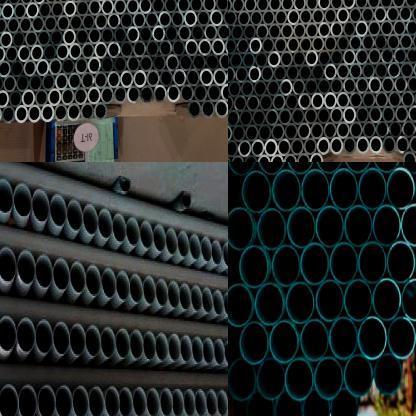pipe: (240, 320, 270, 364), (284, 358, 314, 402), (314, 356, 343, 401), (254, 283, 284, 326), (286, 206, 316, 249), (344, 354, 373, 398), (269, 320, 298, 364), (358, 316, 387, 360), (372, 278, 401, 322), (272, 168, 301, 212), (388, 315, 416, 360), (238, 246, 268, 288), (329, 317, 358, 360), (286, 281, 315, 324), (300, 318, 328, 362), (344, 204, 372, 248), (329, 242, 358, 284), (257, 208, 286, 250), (315, 206, 344, 248), (242, 171, 271, 213), (374, 353, 402, 396), (373, 204, 401, 247), (387, 167, 415, 210), (228, 358, 256, 401), (256, 358, 284, 401), (316, 280, 344, 322), (344, 279, 372, 321), (272, 244, 300, 286), (300, 242, 328, 284), (359, 242, 387, 284), (386, 241, 414, 283), (301, 168, 329, 210), (358, 168, 386, 210), (330, 168, 358, 210), (228, 206, 253, 250), (228, 284, 253, 327), (330, 388, 358, 416), (303, 389, 331, 416), (247, 390, 274, 416), (275, 391, 302, 416), (52, 320, 70, 356), (35, 318, 53, 354), (13, 183, 32, 217), (401, 278, 416, 321), (401, 203, 416, 246), (0, 383, 19, 416), (18, 318, 36, 352), (0, 315, 17, 351), (18, 250, 36, 284), (0, 247, 17, 282), (32, 189, 50, 222), (19, 384, 37, 416), (52, 258, 70, 290), (50, 194, 68, 226), (36, 255, 53, 288), (38, 384, 55, 416), (56, 384, 73, 416), (70, 323, 86, 356), (70, 262, 86, 294), (67, 199, 83, 231), (82, 204, 98, 235), (72, 386, 88, 416), (86, 264, 101, 296), (101, 327, 116, 358), (98, 208, 113, 239), (0, 178, 13, 213), (89, 386, 104, 416), (105, 386, 120, 416), (101, 268, 116, 298), (86, 324, 100, 356), (113, 212, 127, 244), (116, 327, 130, 358), (133, 386, 147, 416), (130, 330, 144, 360), (126, 216, 140, 246), (119, 387, 133, 416), (228, 162, 256, 176), (146, 386, 159, 416), (160, 386, 173, 416), (143, 275, 156, 305), (116, 271, 129, 301), (140, 220, 153, 250), (153, 224, 166, 252), (156, 332, 168, 362), (144, 330, 156, 360), (156, 277, 168, 306), (130, 274, 142, 303), (172, 388, 184, 416), (192, 336, 204, 364), (181, 334, 193, 362), (168, 334, 180, 362), (180, 282, 192, 310), (257, 162, 285, 174), (286, 162, 314, 174), (194, 389, 206, 416), (168, 282, 180, 309), (189, 233, 201, 260), (178, 230, 190, 257), (166, 228, 178, 255), (315, 162, 344, 173), (372, 162, 401, 173), (202, 286, 213, 314), (191, 284, 202, 312), (206, 83, 221, 103), (199, 68, 214, 88), (206, 389, 217, 416), (217, 389, 228, 416), (184, 389, 195, 416), (201, 236, 212, 262), (329, 136, 344, 155), (381, 105, 396, 124), (48, 88, 62, 108), (61, 87, 75, 107), (87, 86, 101, 106), (153, 84, 167, 104), (180, 84, 194, 104), (194, 84, 208, 104), (106, 70, 120, 90), (172, 68, 186, 88), (186, 68, 200, 88), (126, 54, 140, 74), (206, 52, 220, 72), (192, 52, 206, 72), (158, 38, 172, 58), (172, 38, 186, 58), (67, 102, 81, 122), (188, 99, 202, 119), (201, 99, 215, 119), (250, 138, 264, 158), (264, 138, 278, 158), (290, 137, 304, 157), (369, 135, 383, 155), (382, 135, 396, 155), (349, 90, 363, 110), (212, 238, 222, 266), (344, 162, 372, 172), (15, 104, 28, 125), (395, 136, 410, 154), (355, 106, 370, 124), (214, 338, 224, 365), (204, 337, 214, 364), (214, 99, 228, 118), (74, 87, 88, 106), (100, 86, 114, 105), (140, 85, 154, 104), (166, 84, 180, 103), (68, 72, 82, 91), (94, 71, 108, 90), (120, 70, 134, 89), (146, 69, 160, 88), (159, 69, 173, 88), (213, 68, 227, 87), (10, 59, 24, 78), (61, 57, 75, 76), (87, 56, 101, 75), (113, 55, 127, 74), (139, 54, 153, 73), (152, 54, 166, 73), (166, 53, 180, 72), (178, 53, 192, 72), (68, 42, 82, 61), (146, 39, 160, 58), (178, 23, 192, 42), (28, 104, 42, 123), (40, 104, 54, 123), (80, 102, 94, 121), (94, 102, 108, 121), (277, 138, 291, 157), (303, 137, 317, 156), (316, 136, 330, 155), (342, 136, 356, 155), (258, 123, 272, 142), (271, 123, 285, 142), (284, 122, 298, 141), (336, 121, 350, 140), (349, 121, 363, 140), (324, 121, 338, 140), (362, 121, 376, 140), (375, 120, 389, 139), (388, 120, 402, 139), (402, 120, 416, 139), (239, 108, 253, 127), (252, 108, 266, 127), (265, 108, 279, 127), (291, 107, 305, 126), (304, 107, 318, 126), (316, 106, 330, 125), (394, 105, 408, 124), (233, 94, 247, 113), (374, 90, 388, 109), (388, 90, 402, 109), (394, 75, 408, 94), (298, 63, 312, 82), (355, 47, 369, 66), (35, 88, 48, 108), (3, 74, 16, 94), (55, 72, 68, 92), (75, 56, 88, 76), (152, 24, 165, 44), (362, 90, 375, 110), (213, 289, 223, 315), (398, 5, 413, 22), (114, 86, 128, 104), (80, 72, 94, 90), (133, 70, 147, 88), (23, 60, 37, 78), (48, 58, 62, 76), (30, 44, 44, 62), (94, 42, 108, 60), (184, 38, 198, 56), (198, 38, 212, 56), (211, 38, 225, 56), (24, 30, 38, 48), (62, 28, 76, 46), (126, 26, 140, 44), (190, 24, 204, 42), (204, 24, 218, 42), (6, 16, 20, 34), (82, 13, 96, 31), (94, 12, 108, 30), (132, 11, 146, 29), (170, 10, 184, 28), (26, 2, 40, 20), (356, 136, 370, 154), (245, 124, 259, 142), (310, 122, 324, 140), (278, 108, 292, 126), (342, 106, 356, 124), (368, 106, 382, 124), (246, 94, 260, 112), (272, 94, 286, 112), (285, 93, 299, 111), (310, 92, 324, 110), (323, 92, 337, 110), (336, 92, 350, 110), (400, 90, 414, 108), (253, 80, 267, 98), (266, 79, 280, 97), (368, 76, 382, 94), (260, 64, 274, 82), (336, 62, 350, 80), (374, 62, 388, 80), (387, 61, 401, 79), (400, 61, 414, 79), (342, 48, 356, 66), (380, 47, 394, 65), (286, 36, 300, 54), (274, 36, 288, 54), (280, 22, 294, 40), (330, 20, 344, 38), (342, 20, 356, 38), (374, 6, 388, 24), (386, 5, 400, 23), (22, 89, 35, 108), (127, 85, 140, 104), (16, 74, 29, 93), (42, 73, 55, 92), (36, 58, 49, 77), (18, 44, 31, 63), (43, 43, 56, 62), (108, 40, 121, 59), (120, 40, 133, 59), (2, 105, 15, 124), (54, 103, 67, 122), (238, 139, 251, 158), (330, 106, 343, 125), (368, 47, 381, 66), (299, 7, 312, 26), (209, 10, 224, 26), (138, 26, 152, 43), (56, 14, 70, 31), (158, 11, 172, 28), (232, 125, 246, 142), (355, 77, 369, 94), (381, 76, 395, 93), (292, 50, 306, 67), (336, 35, 350, 52), (274, 9, 288, 26), (9, 90, 22, 108), (29, 74, 42, 92), (101, 56, 114, 74), (5, 45, 18, 63), (56, 43, 69, 61), (133, 40, 146, 58), (12, 30, 25, 48), (50, 29, 63, 47), (88, 27, 101, 45), (101, 26, 114, 44), (113, 26, 126, 44), (19, 16, 32, 34), (31, 15, 44, 33), (44, 14, 57, 32), (108, 12, 121, 30), (120, 12, 133, 30), (184, 10, 197, 28), (197, 10, 210, 28), (39, 1, 52, 19), (51, 0, 64, 18), (298, 92, 311, 110), (241, 80, 254, 98), (292, 78, 305, 96), (330, 77, 343, 95), (343, 76, 356, 94), (235, 66, 248, 84), (248, 65, 261, 83), (286, 64, 299, 82), (324, 63, 337, 81), (349, 62, 362, 80), (362, 62, 375, 80), (242, 51, 255, 69), (255, 50, 268, 68), (330, 48, 343, 66), (387, 33, 400, 51), (243, 23, 256, 41), (355, 20, 368, 38), (393, 19, 406, 37), (287, 8, 300, 26), (76, 27, 88, 46), (298, 122, 310, 141), (380, 20, 394, 36), (165, 25, 178, 42), (1, 3, 14, 20), (76, 0, 89, 17), (228, 80, 241, 97), (299, 36, 312, 53), (324, 35, 337, 52), (349, 34, 362, 51), (268, 23, 281, 40), (262, 9, 275, 26), (312, 8, 325, 25), (349, 6, 362, 23), (82, 42, 94, 60), (0, 31, 12, 49), (38, 30, 50, 48), (70, 14, 82, 32), (146, 11, 158, 29), (14, 2, 26, 20), (64, 0, 76, 18), (260, 94, 272, 112), (280, 78, 292, 96), (318, 78, 330, 96), (274, 64, 286, 82), (312, 63, 324, 81), (230, 52, 242, 70), (268, 51, 280, 69), (318, 49, 330, 67), (394, 47, 406, 65), (262, 36, 274, 54), (312, 35, 324, 53), (362, 34, 374, 52), (400, 33, 412, 51), (231, 24, 243, 42), (294, 22, 306, 40), (318, 21, 330, 39), (249, 38, 262, 54), (374, 34, 387, 50), (324, 8, 337, 24), (237, 38, 249, 55), (256, 23, 268, 40), (306, 22, 318, 39), (368, 20, 380, 37), (337, 7, 349, 24), (362, 6, 374, 23), (217, 23, 228, 41), (228, 109, 239, 127), (306, 78, 317, 96), (281, 50, 292, 68), (306, 49, 317, 67), (405, 18, 416, 36), (88, 0, 101, 15), (101, 0, 114, 15), (113, 0, 126, 15), (126, 0, 139, 15), (238, 10, 250, 26), (250, 10, 262, 26), (228, 139, 238, 158), (139, 0, 152, 14), (151, 0, 164, 14), (0, 60, 10, 78), (406, 46, 416, 64), (0, 90, 9, 109), (219, 52, 228, 71), (164, 0, 177, 13), (177, 0, 190, 13), (190, 0, 203, 13), (402, 150, 416, 162), (407, 75, 416, 93), (202, 0, 215, 12), (215, 0, 228, 12), (256, 0, 269, 12), (268, 0, 281, 12), (293, 0, 306, 12), (228, 10, 237, 27), (408, 104, 416, 123), (222, 242, 228, 267), (232, 0, 244, 12), (244, 0, 256, 12), (281, 0, 293, 12), (305, 0, 318, 11), (317, 0, 330, 11), (354, 0, 368, 10), (296, 152, 310, 162), (228, 38, 236, 55), (221, 83, 228, 102), (409, 135, 416, 154), (342, 0, 355, 10), (309, 152, 322, 162), (228, 66, 235, 84), (283, 153, 297, 162), (223, 291, 228, 316), (330, 0, 342, 10), (0, 17, 7, 34), (367, 0, 380, 9), (379, 0, 392, 9), (270, 153, 283, 162), (228, 94, 234, 113), (230, 154, 244, 162), (392, 0, 405, 8), (244, 154, 257, 162), (257, 154, 270, 162), (224, 340, 228, 365), (223, 8, 228, 26), (411, 4, 416, 22), (405, 0, 416, 8), (0, 46, 5, 63), (8, 0, 21, 6), (224, 37, 228, 56), (228, 124, 232, 142), (412, 32, 416, 50), (20, 0, 32, 5), (0, 75, 3, 94), (32, 0, 45, 4), (57, 0, 70, 4), (228, 0, 232, 13), (413, 61, 416, 78), (228, 24, 231, 41), (0, 0, 8, 6)
